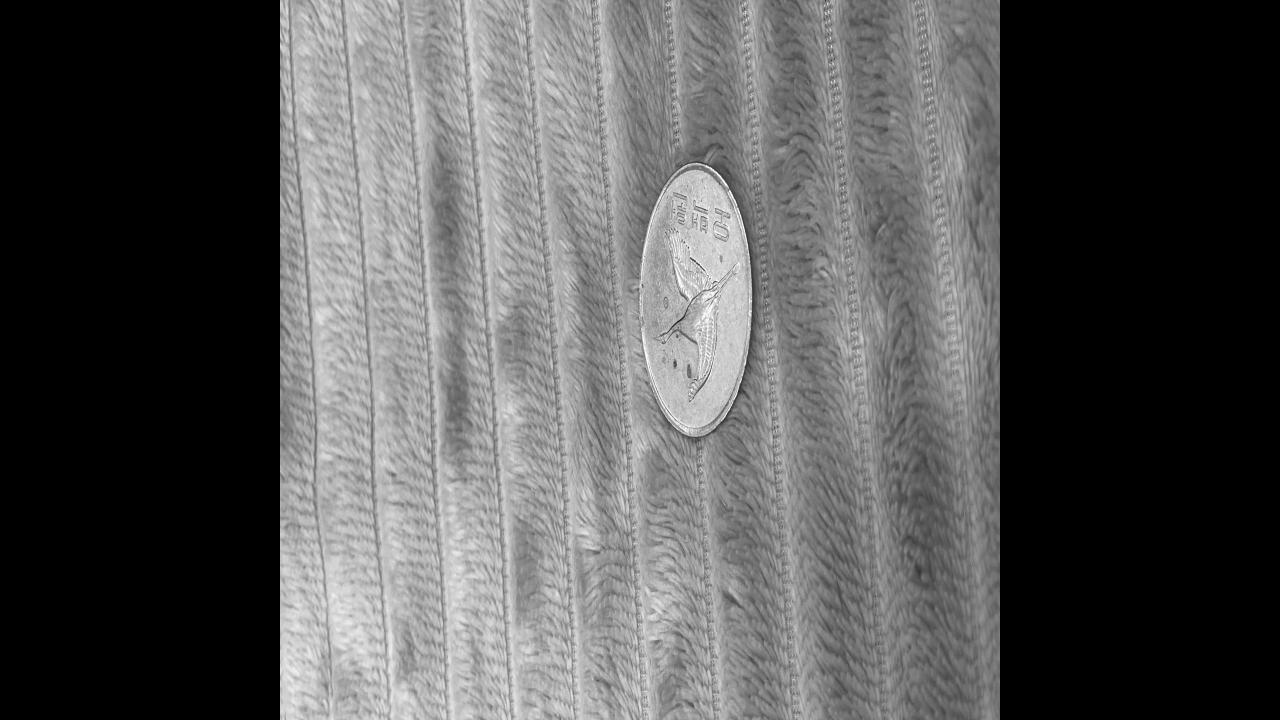coin: (638, 156, 752, 437)
